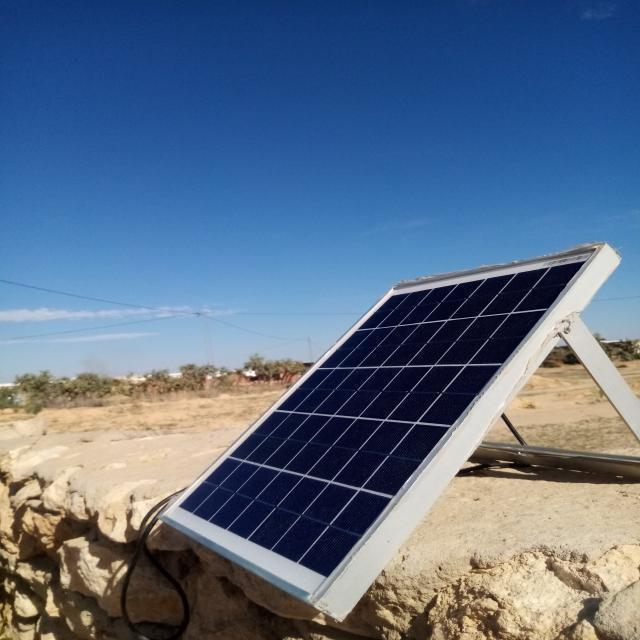Normal Solar Panel: (156, 245, 603, 600)
